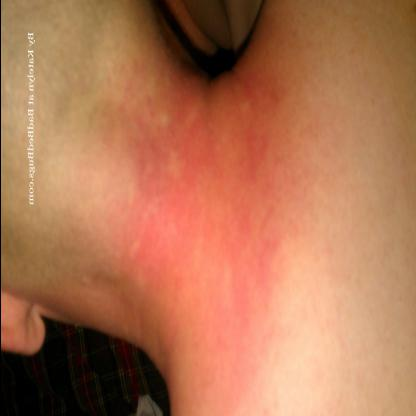Bed Bug: (114, 64, 292, 412)
